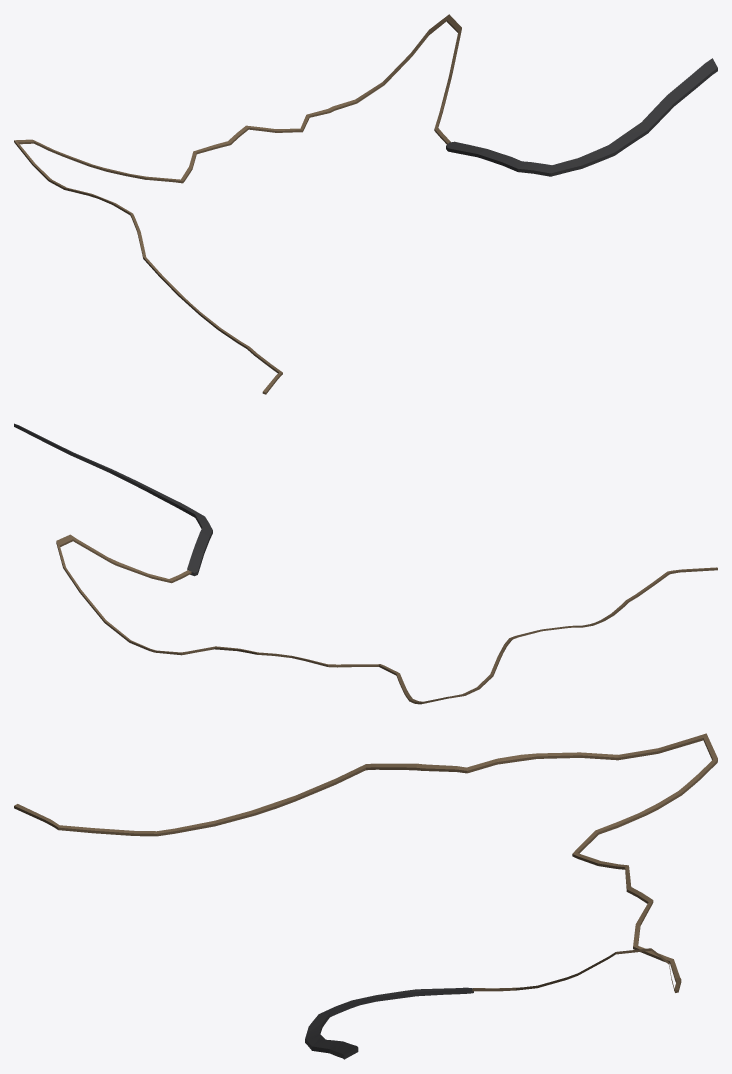
Rendered from 16-54740-29716.a3ad4afe.glb.
The picture shows the model from 3 angles, top to bottom: view 1: azimuth 30°, elevation 25°; view 2: azimuth 150°, elevation 25°; view 3: azimuth 270°, elevation 25°; orthographic projection. The views are drawn at different scales.
Size of the model in its own units: 220 by 37.77 by 175.
